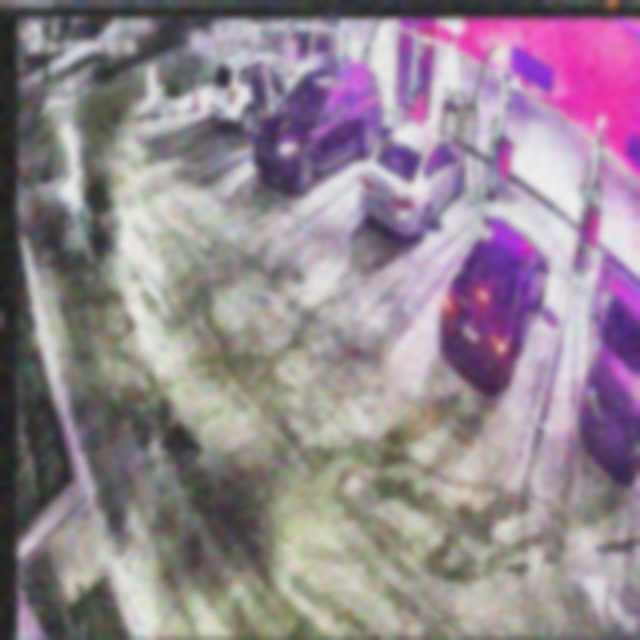Car: (439, 221, 550, 390), (252, 60, 382, 192), (359, 101, 465, 240)
